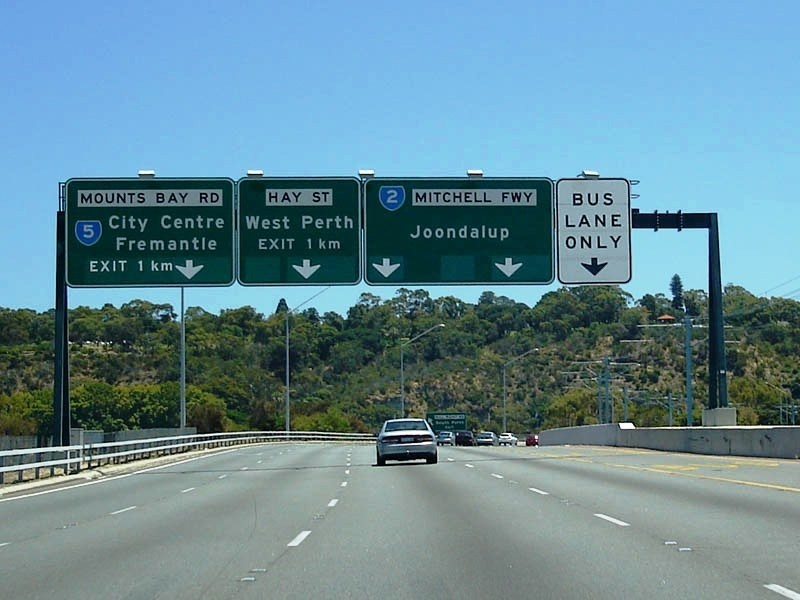text: (113, 215, 128, 236), (129, 215, 144, 236), (257, 215, 272, 232), (273, 215, 288, 232), (417, 225, 432, 242), (433, 225, 448, 242), (449, 225, 464, 242), (465, 225, 480, 242), (481, 225, 496, 242), (497, 225, 512, 242), (161, 215, 176, 231), (177, 215, 192, 231), (193, 215, 208, 231), (209, 215, 224, 231), (129, 236, 144, 252), (145, 236, 160, 252), (161, 236, 176, 252), (177, 236, 192, 252), (193, 236, 208, 252), (305, 216, 320, 231), (321, 216, 336, 231), (337, 216, 352, 231), (577, 214, 592, 229), (593, 214, 608, 229), (577, 235, 592, 250), (593, 235, 608, 250), (577, 193, 592, 207), (593, 193, 608, 207), (609, 214, 623, 229), (417, 191, 432, 204), (433, 191, 448, 204), (449, 191, 464, 204), (465, 191, 480, 204), (609, 235, 622, 250), (116, 236, 128, 252), (273, 192, 288, 204), (161, 193, 176, 205), (81, 193, 96, 205), (97, 193, 112, 205), (113, 193, 128, 205), (129, 193, 144, 205), (97, 261, 112, 273), (113, 261, 128, 273), (257, 239, 272, 251), (273, 239, 288, 251), (513, 192, 528, 204), (246, 215, 256, 232), (289, 192, 303, 204), (321, 239, 336, 250), (565, 235, 576, 250), (84, 226, 96, 239), (161, 261, 174, 273), (388, 191, 400, 204), (481, 191, 493, 204), (566, 214, 576, 229), (177, 193, 189, 205), (209, 236, 218, 252), (308, 239, 320, 250), (209, 193, 220, 204), (321, 192, 331, 204), (502, 192, 512, 204), (145, 215, 150, 236), (433, 414, 448, 421), (449, 414, 464, 421), (410, 225, 416, 242), (152, 261, 160, 273), (200, 193, 208, 204), (313, 192, 320, 204), (289, 239, 296, 251), (609, 193, 615, 207), (449, 421, 464, 426), (90, 261, 96, 273), (435, 421, 448, 426), (109, 215, 112, 236), (139, 260, 144, 272), (529, 192, 534, 204), (337, 239, 342, 250), (573, 193, 576, 207), (449, 425, 456, 431), (269, 192, 272, 204), (157, 193, 160, 205), (289, 215, 291, 232), (302, 216, 304, 231), (353, 216, 355, 231), (145, 193, 147, 205), (445, 425, 448, 431), (225, 215, 226, 231), (465, 414, 467, 421), (319, 239, 320, 250), (465, 421, 466, 426)
